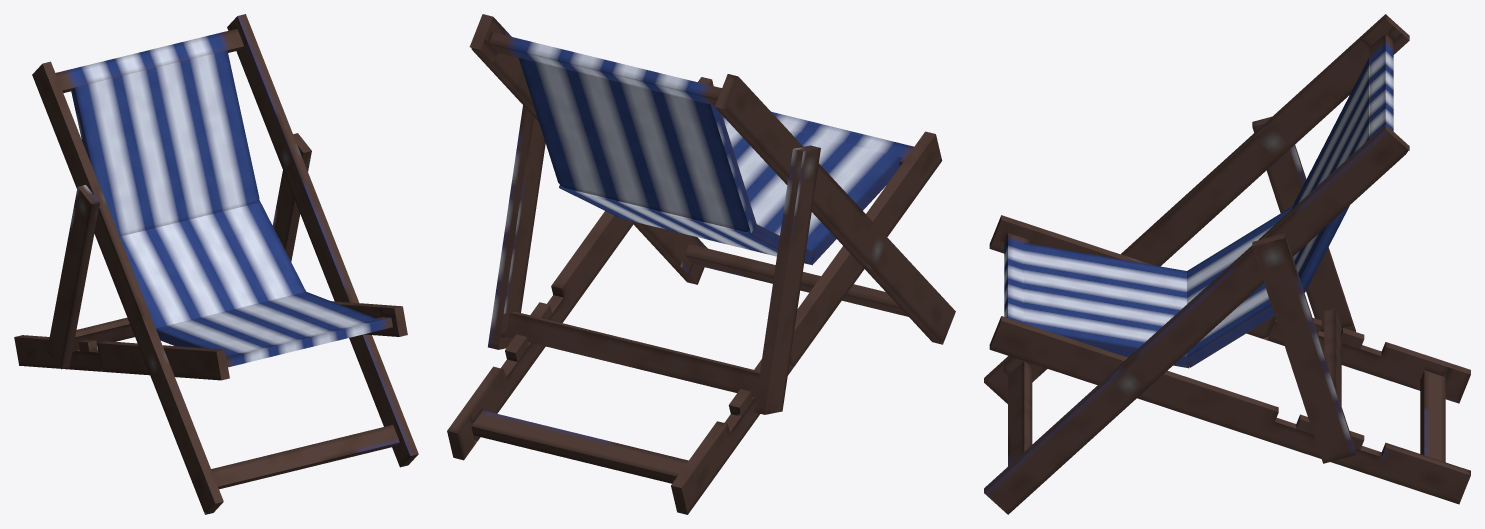
File: Chaise longe.obj
The picture shows the model from 3 angles, left to right: view 1: azimuth 30°, elevation 25°; view 2: azimuth 150°, elevation 25°; view 3: azimuth 270°, elevation 25°; orthographic projection. The views are drawn at different scales.
Visible parts, largest first — view 1: Model; view 2: Model; view 3: Model.
Boxes of the visible parts, <box> form: Model: <box>14,14,418,514</box>; Model: <box>447,14,955,514</box>; Model: <box>984,14,1470,514</box>.
Size of the model in its own units: 26 by 37.48 by 42.87.
1 material, 1 textured.
